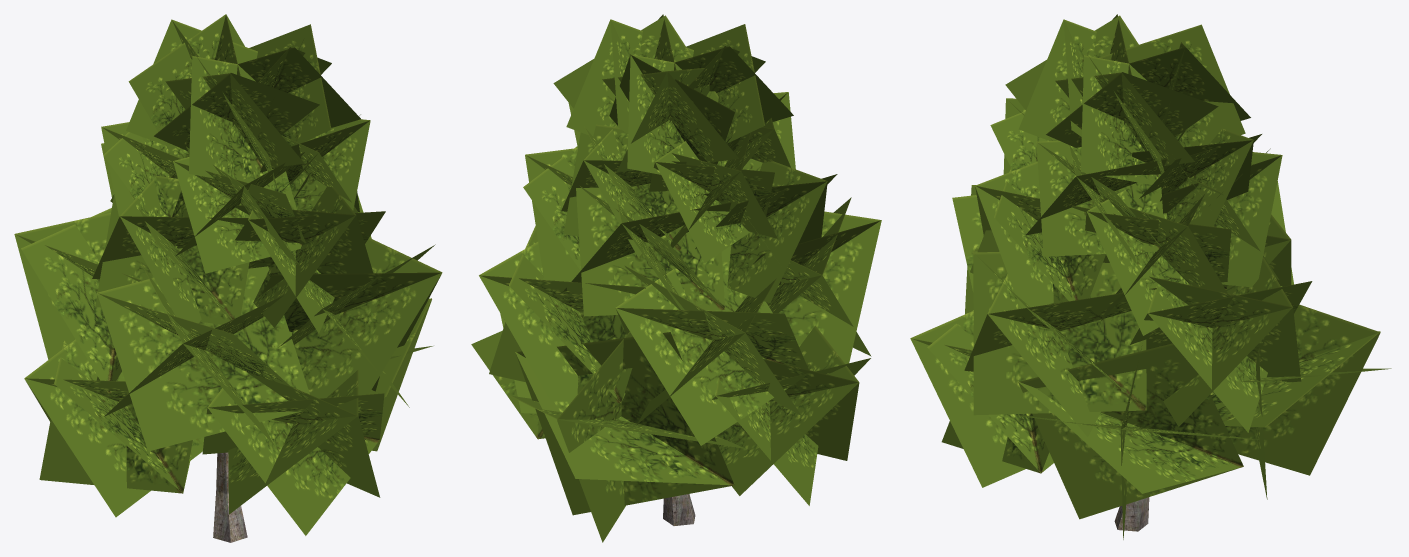
Rendered from gaodaguanmu.fbx.
3 views of the same model, side by side, from view 1: azimuth 30°, elevation 25°; view 2: azimuth 150°, elevation 25°; view 3: azimuth 270°, elevation 25° (orthographic). The views are drawn at different scales.
Parts seen in each view (by area): view 1: gaodaguanmu; view 2: gaodaguanmu; view 3: gaodaguanmu.
Part boxes in pixels (x1=…): gaodaguanmu: x1=14, y1=14, x2=442, y2=542; gaodaguanmu: x1=471, y1=14, x2=881, y2=542; gaodaguanmu: x1=910, y1=14, x2=1391, y2=539.
Bounding box in the file's own units: 10.57 × 12.33 × 11.05.
Materials: 2 (2 with a texture image).
